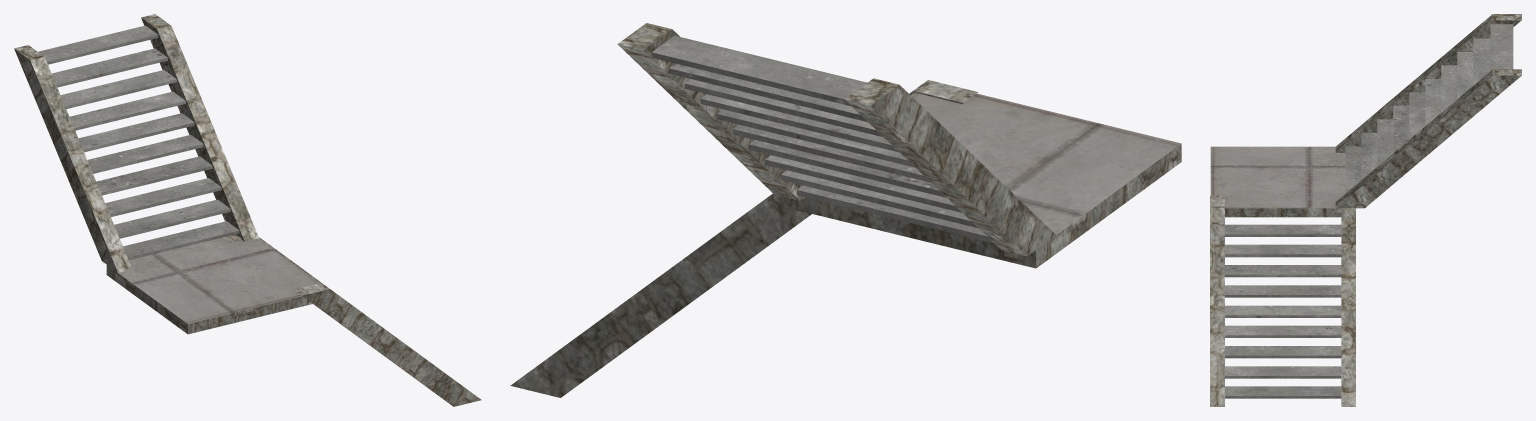
File: stone_stairs_l_shape_textured.glb
The picture shows the model from 3 angles, left to right: view 1: azimuth 30°, elevation 25°; view 2: azimuth 150°, elevation 25°; view 3: azimuth 270°, elevation 25°; orthographic projection. The views are drawn at different scales.
Visible parts, largest first — view 1: Cube.001; view 2: Cube.001; view 3: Cube.001.
Boxes of the visible parts, x1,y1,x2,y2 form: Cube.001: [14, 14, 481, 406]; Cube.001: [510, 23, 1181, 397]; Cube.001: [1210, 14, 1521, 406].
Size of the model in its own units: 2.08 by 2.01 by 2.14.
1 material, 1 textured.
